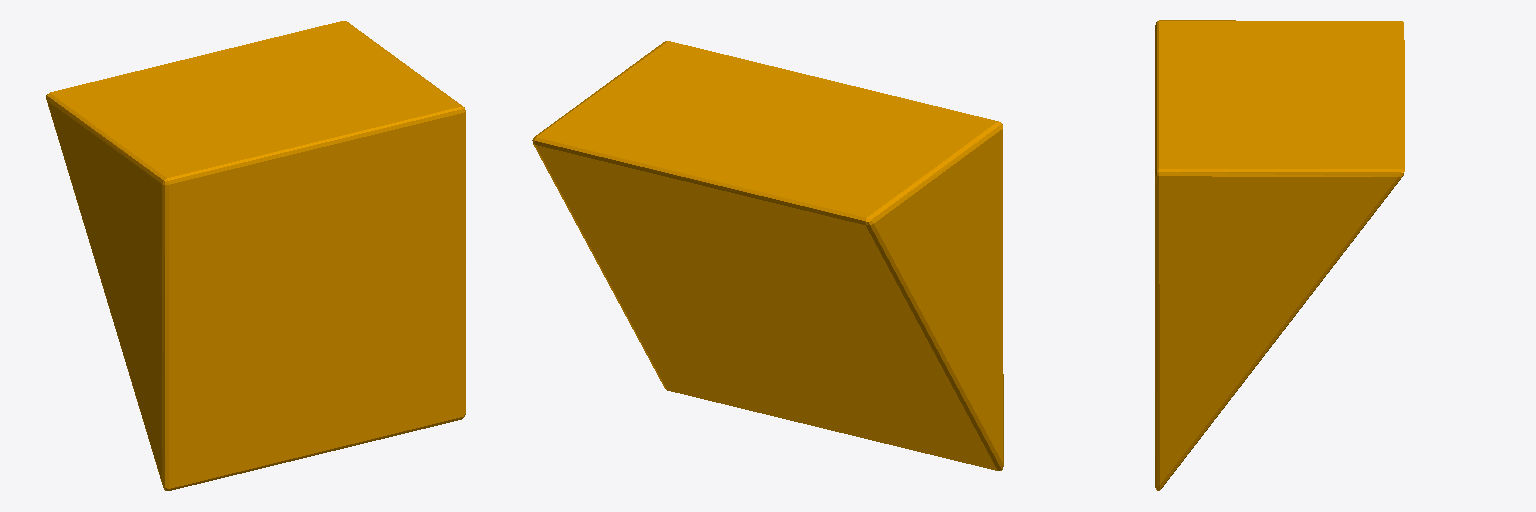
URDF robot description (object):
<?xml version="1.0"?>
<robot name="object">
  <link name="object">
    <visual>
      <origin xyz="0 0 0"/>
      <geometry>
        <mesh filename="gray_ramp.obj" scale="1 0.7 1"/>
      </geometry>
    </visual>
    <collision>
      <origin xyz="0 0 0"/>
      <geometry>
        <mesh filename="gray_ramp.obj" scale="1 0.7 1"/>
      </geometry>
    </collision>

  </link>
</robot>

--- Render facts (derived) ---
3 views of the same robot in one strip: view 1: azimuth 30°, elevation 25°; view 2: azimuth 150°, elevation 25°; view 3: azimuth 270°, elevation 25° (orthographic).
Robot: object — 1 links, 0 joints (none); root link object; default pose: every joint at zero.
Visible links, largest first — view 1: object; view 2: object; view 3: object.
Link boxes in pixels (left/top/right/bottom): object: left=46, top=21, right=465, bottom=490; object: left=532, top=41, right=1003, bottom=470; object: left=1155, top=20, right=1404, bottom=490.
Bounding box of the posed robot: 2 × 1.38 × 1.97 m (x, y, z).
1 mesh visuals loaded from 1 distinct referenced files (1 OBJ).
